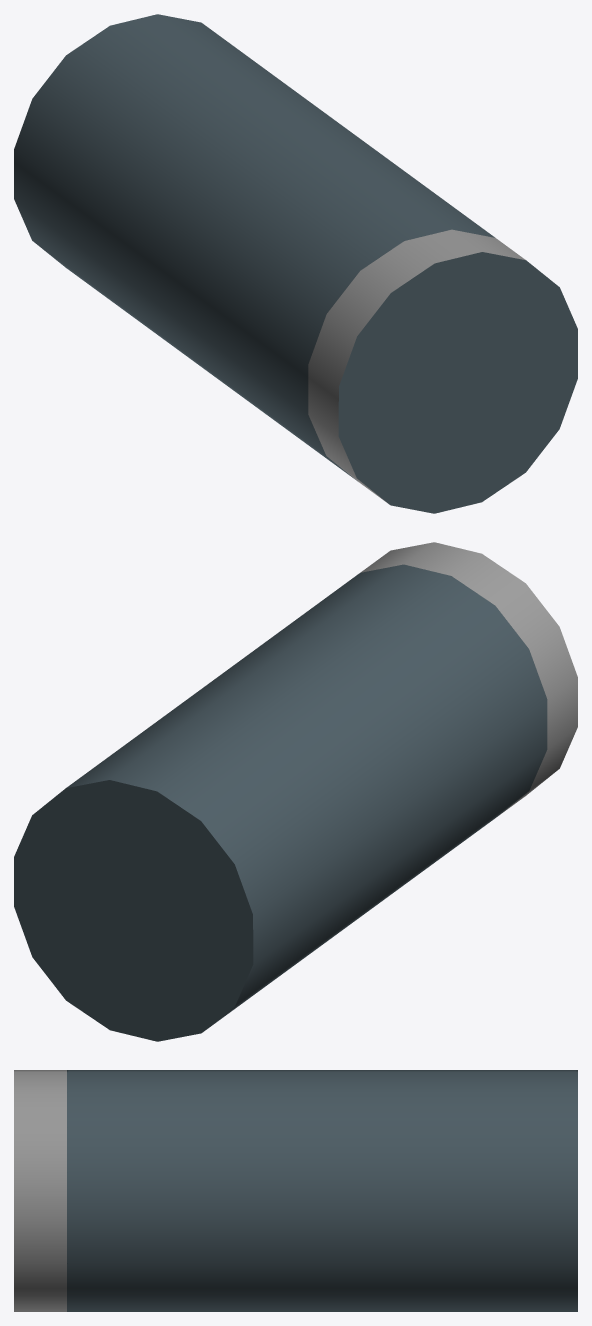
The model's file is ЗУР-БЧиВзрыватель_П.fbx.
The picture shows the model from 3 angles, top to bottom: view 1: azimuth 30°, elevation 25°; view 2: azimuth 150°, elevation 25°; view 3: azimuth 270°, elevation 25°; orthographic projection. The views are drawn at different scales.
Visible parts, largest first — view 1: Circle.012; view 2: Circle.012; view 3: Circle.012.
Boxes of the visible parts, left/top/right/bottom form: Circle.012: left=14, top=14, right=577, bottom=513; Circle.012: left=14, top=542, right=577, bottom=1041; Circle.012: left=14, top=1070, right=577, bottom=1311.
Bounding box in the file's own units: 58.26 × 58.27 × 137.
Materials: 2 (1 with a texture image).
